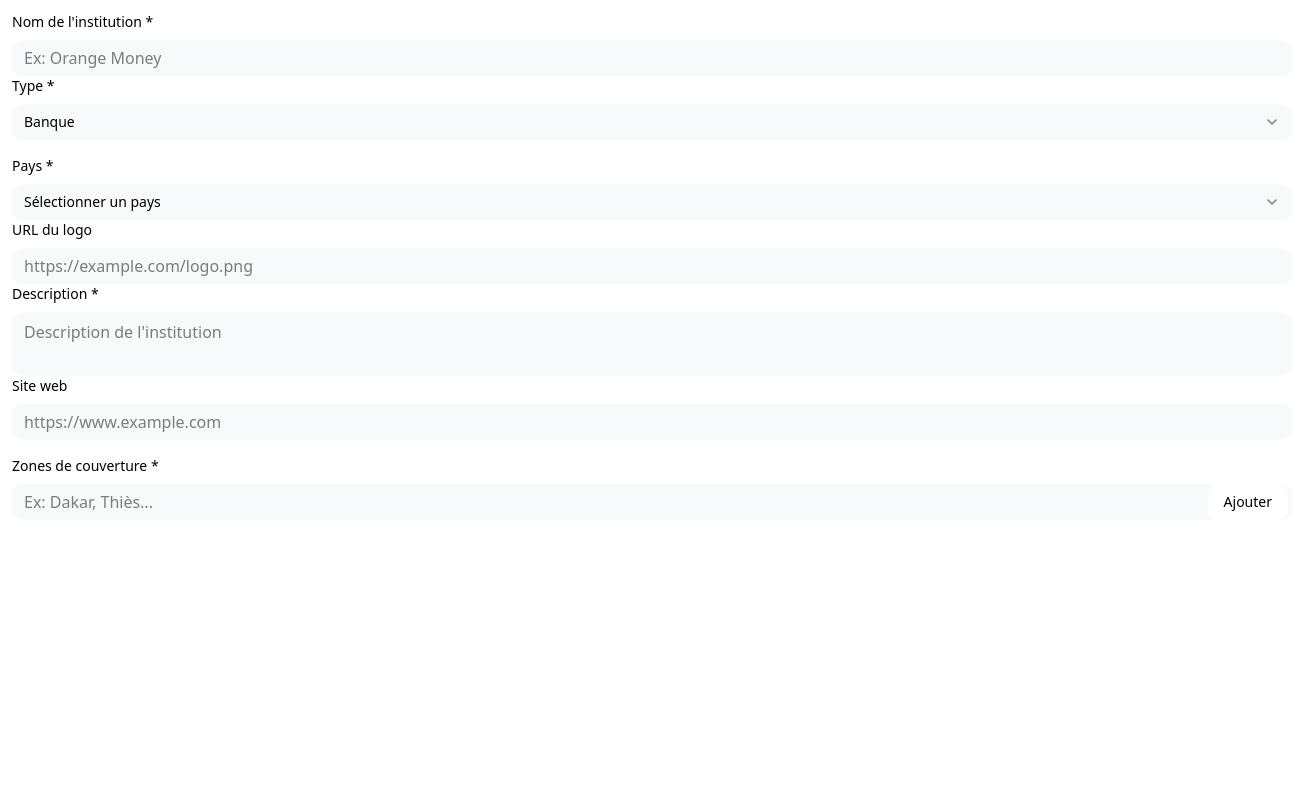
Test case: InstitutionFormFields (interactive) › Common behaviors › filters zones and shows no-results message
Type "ZZZ" into the field with placeholder "Ex: Dakar, Thiès..." at (652, 502), box [12,484,1292,520]
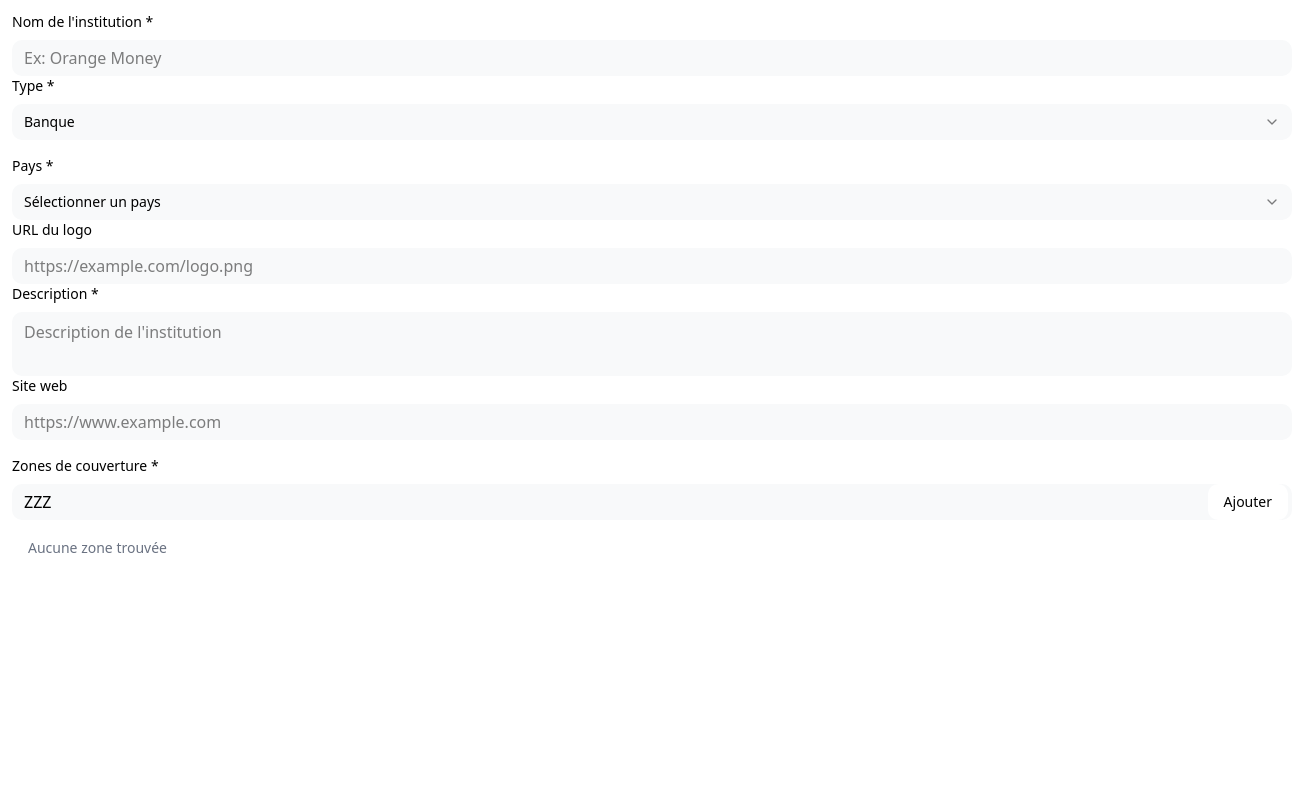
Expected: the text "Aucune zone trouvée" is shown, [28,538,167,557]
